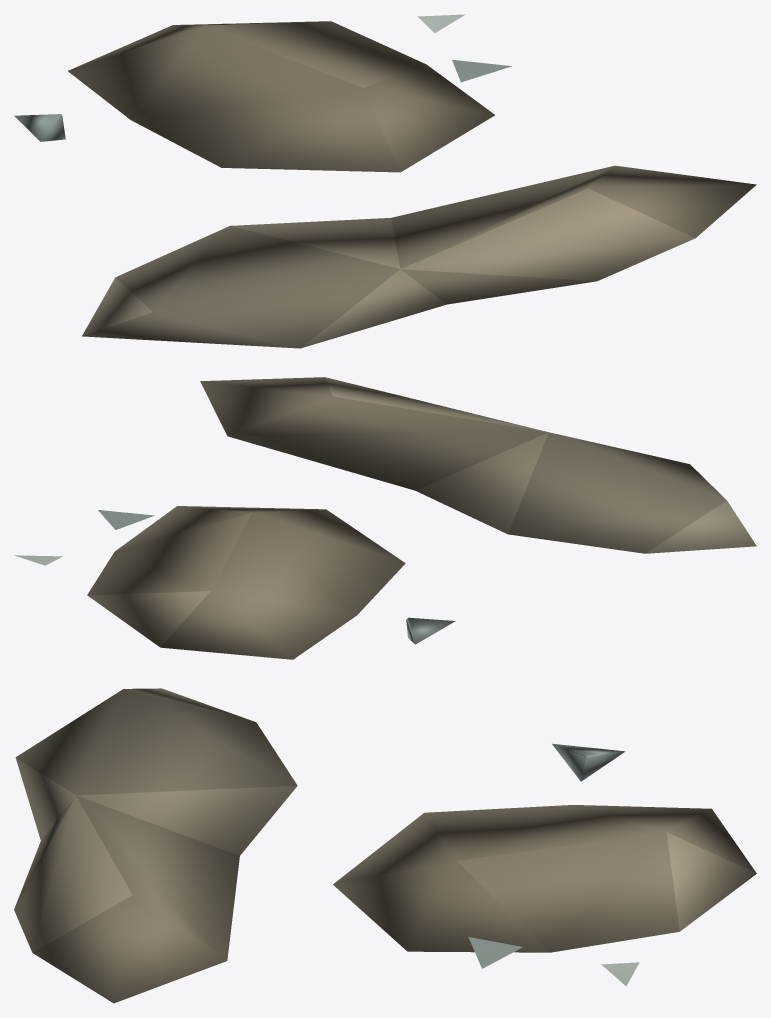
Rendered from grotto_gc_silt_a_lod2.glb.
3 renders of one model, top to bottom at view 1: azimuth 30°, elevation 25°; view 2: azimuth 150°, elevation 25°; view 3: azimuth 270°, elevation 25°, orthographic. The views are drawn at different scales.
Visible parts, largest first — view 1: grotto_gc_silt_a.001; view 2: grotto_gc_silt_a.001; view 3: grotto_gc_silt_a.001.
Part boxes in pixels (x1,y1,x2,y2): grotto_gc_silt_a.001: (14, 14, 756, 348); grotto_gc_silt_a.001: (14, 377, 756, 659); grotto_gc_silt_a.001: (14, 688, 756, 1003).
Size of the model in its own units: 3.88 by 0.2356 by 3.75.
